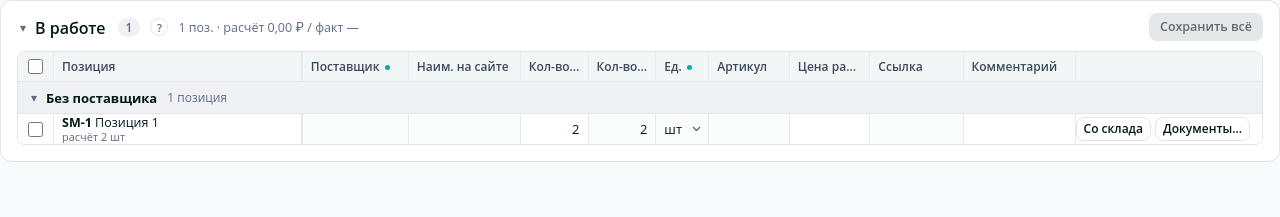
Test: keeps every row action visible on the row (no «⋯» menu), without approval
Click the button with aria-label "Документы, прослеживаемость…" at (1203, 129), box x1=1155 y1=117 x2=1250 y2=141
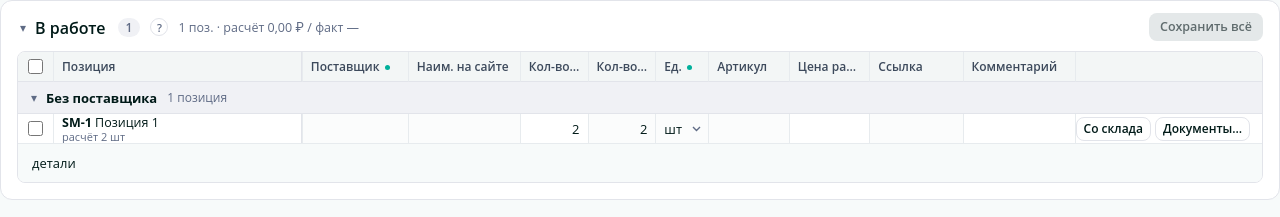
Now the text "детали" is shown, box x1=32 y1=154 x2=76 y2=172
